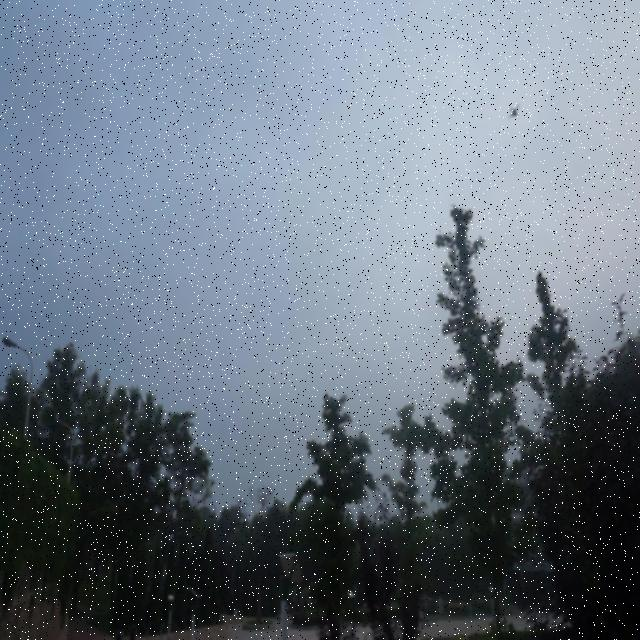UAV: (507, 103, 521, 120)
